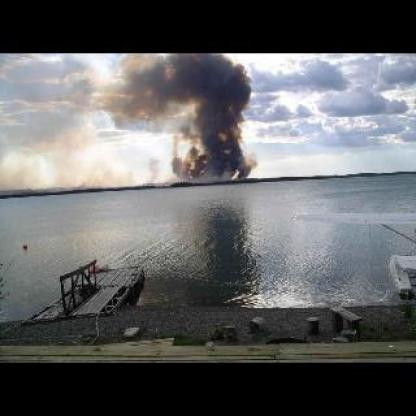fire: (166, 149, 257, 181)
